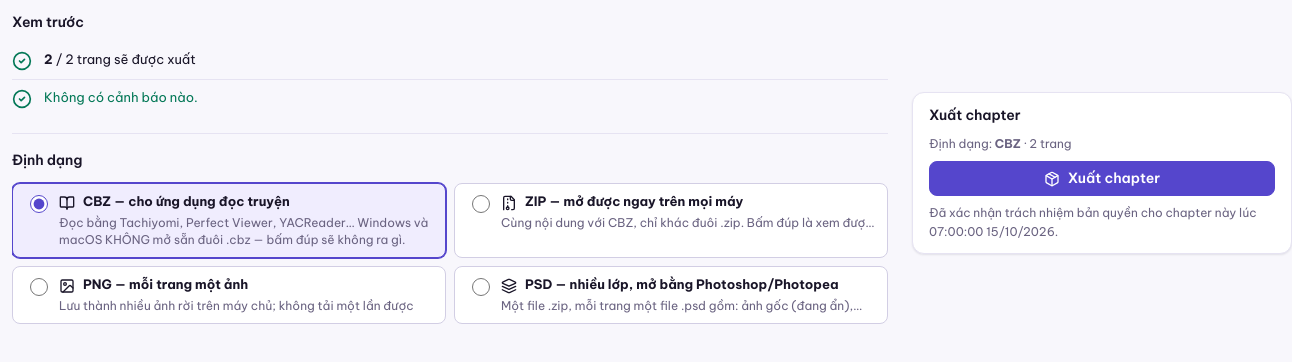
it: E78 — xuất PSD nhiều lớp › bấm xuất gửi ĐÚNG psd và xong thì cho tải file về
Expected: the button "Xuất chapter" is enabled, [929,161,1275,196]
Click the radio button labelled "PSD".
click(481, 287)  # box [472,278,490,296]
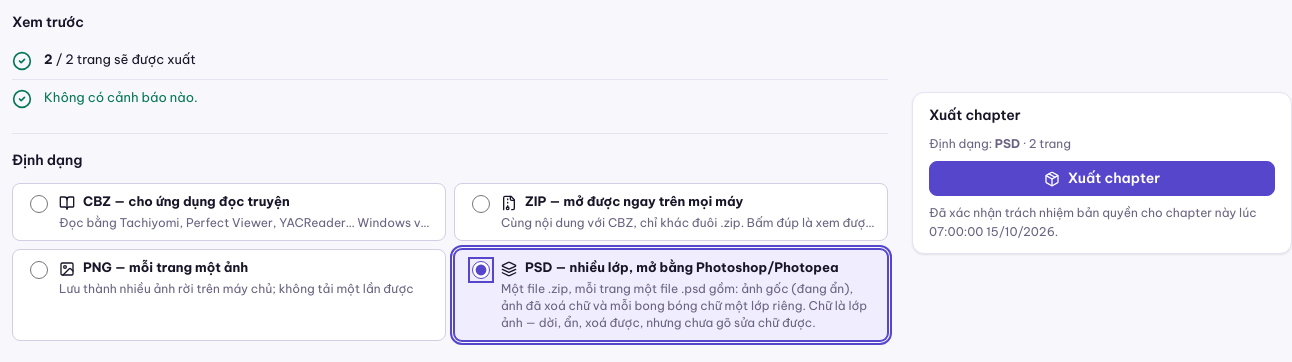
Click the button "Xuất chapter".
click(1102, 179)  # box [929,161,1275,196]
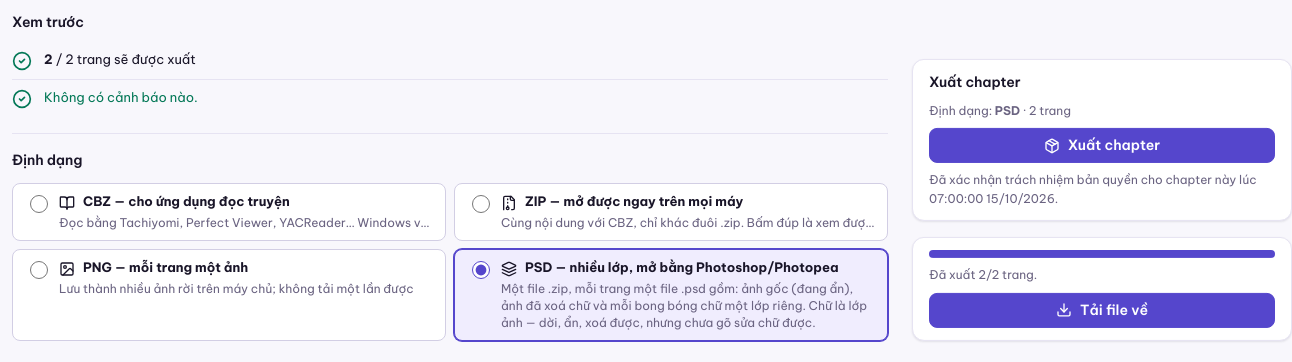
Now the button "Tải file về" is shown, box [929,293,1275,328]
